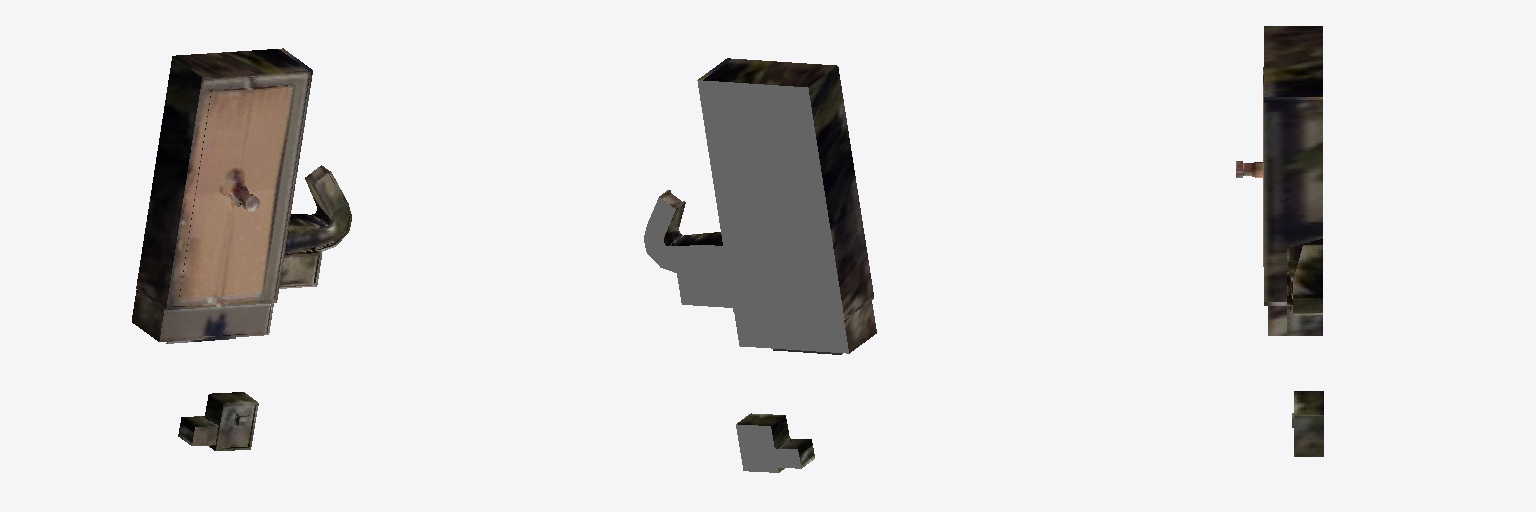
The picture shows the model from 3 angles: view 1: azimuth 30°, elevation 25°; view 2: azimuth 150°, elevation 25°; view 3: azimuth 270°, elevation 25°; orthographic projection.
Bounding box in the file's own units: 30.2 × 55.96 × 11.28.
Materials: 2 (2 with a texture image).